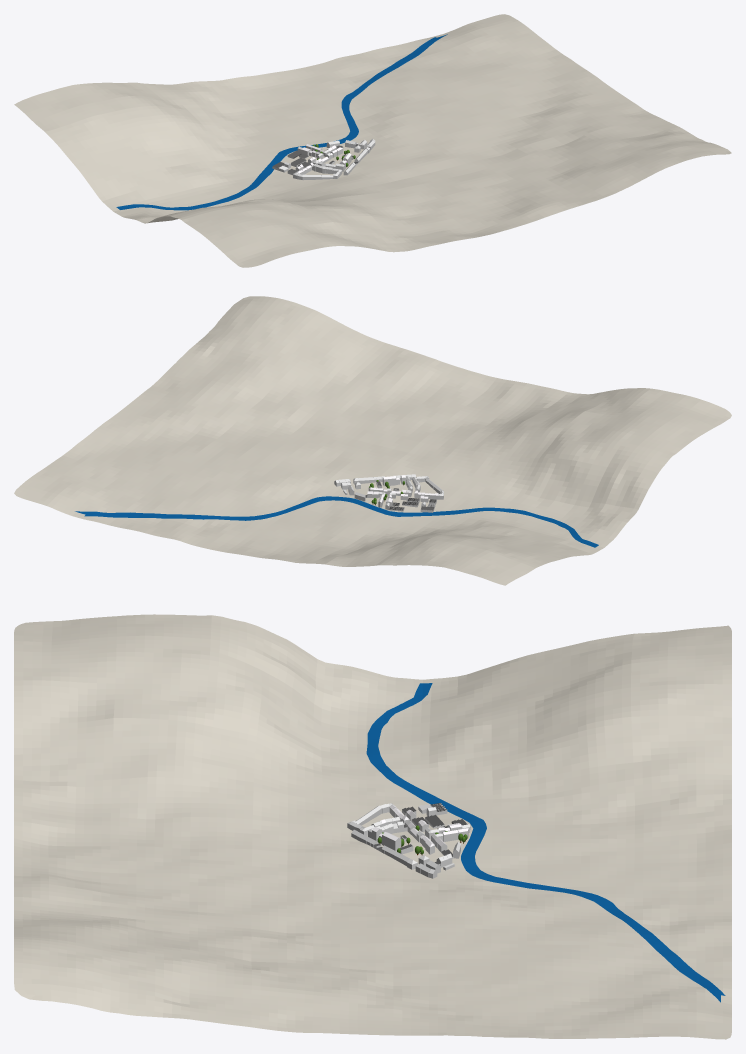
The model's file is 03_Energiequartier.gltf.
The picture shows the model from 3 angles, top to bottom: view 1: azimuth 30°, elevation 25°; view 2: azimuth 150°, elevation 25°; view 3: azimuth 270°, elevation 25°; orthographic projection. The views are drawn at different scales.
Parts seen in each view (by area): view 1: Terrrain, map_3.osm_water; view 2: Terrrain, map_3.osm_water; view 3: Terrrain, map_3.osm_water.
Boxes of the visible parts, x1,y1,x2,y2 form: Terrrain: (14, 14, 731, 267); map_3.osm_water: (116, 34, 447, 210); Terrrain: (14, 296, 731, 585); map_3.osm_water: (75, 496, 598, 547); Terrrain: (14, 614, 731, 1039); map_3.osm_water: (366, 683, 725, 1002).
Bounding box in the file's own units: 1591 × 149 × 1299.
